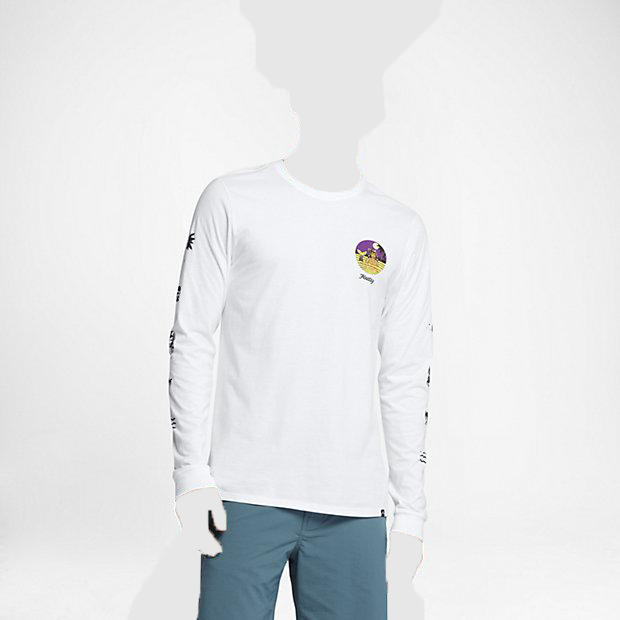teeshirt: (164, 157, 440, 539)
